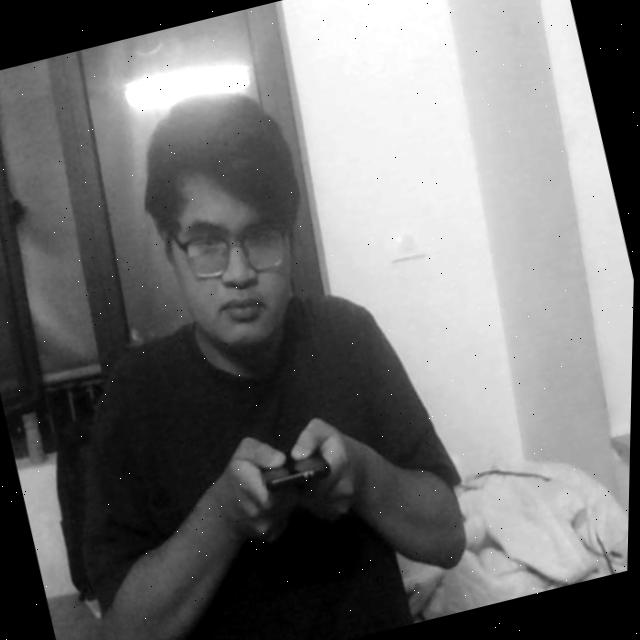phone: (244, 423, 346, 528)
